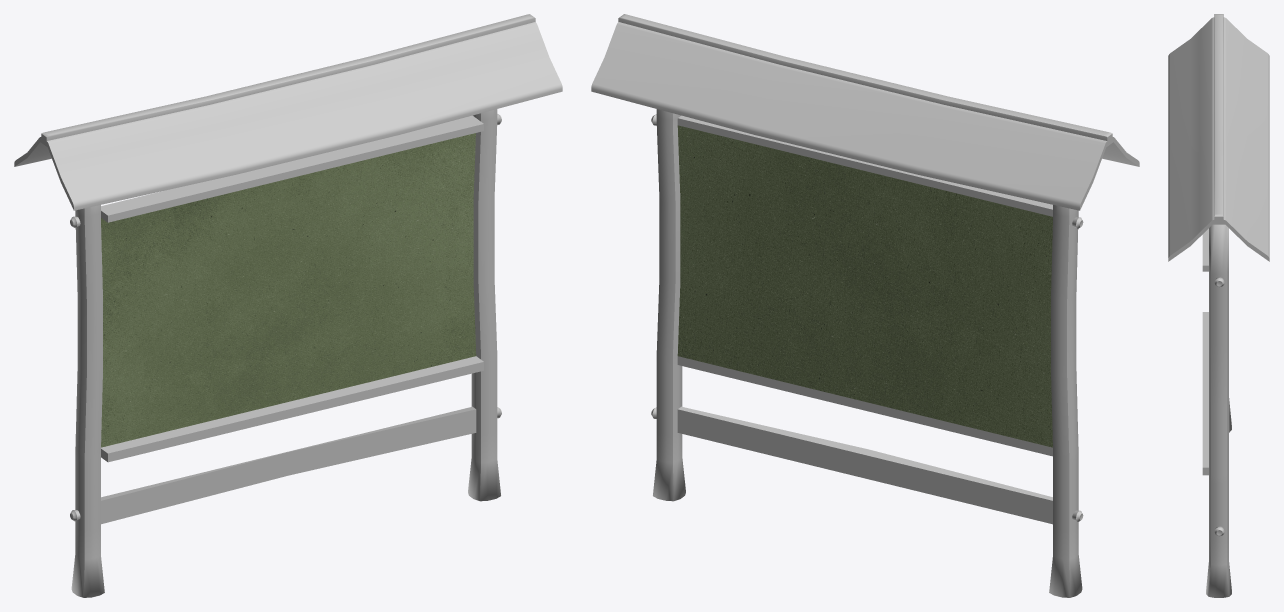
File: information_board.fbx
3 renders of one model, left to right at view 1: azimuth 30°, elevation 25°; view 2: azimuth 150°, elevation 25°; view 3: azimuth 270°, elevation 25°, orthographic. The views are drawn at different scales.
Visible parts, largest first — view 1: infomartionboard; view 2: infomartionboard; view 3: infomartionboard.
Boxes of the visible parts, bbox=[...] form: infomartionboard: bbox=[14, 14, 562, 597]; infomartionboard: bbox=[591, 14, 1139, 597]; infomartionboard: bbox=[1168, 14, 1269, 597].
Bounding box in the file's own units: 345 × 315 × 73.09.
